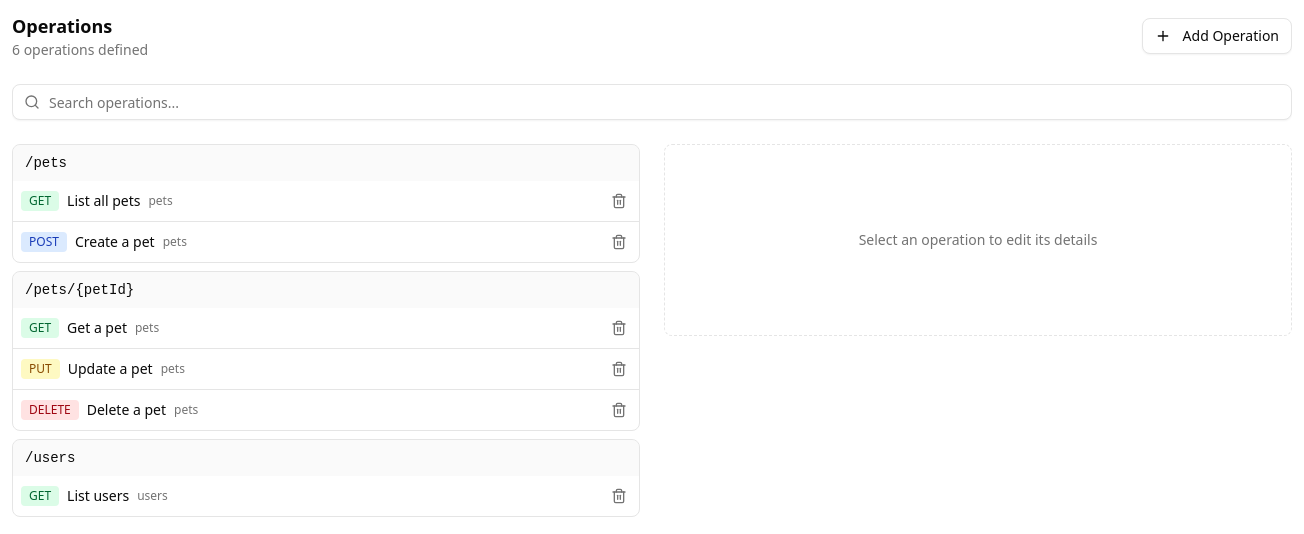
Test case: OperationsTab › Search and Filter › should filter operations by path
This screenshot has width=1304, height=534.
Type "users" into the search field labelled "Search operations..." at x=652, y=102, box [12,84,1292,120]
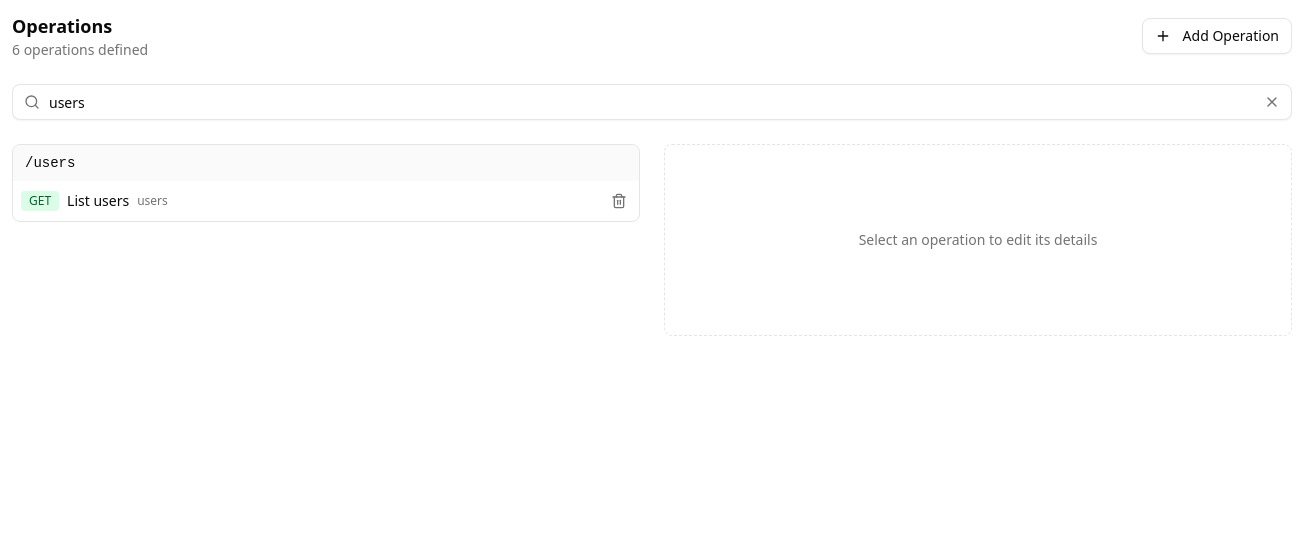
Expected: the text "/users" is shown, [13,145,639,181]
Expected: the text "/pets" is gone
